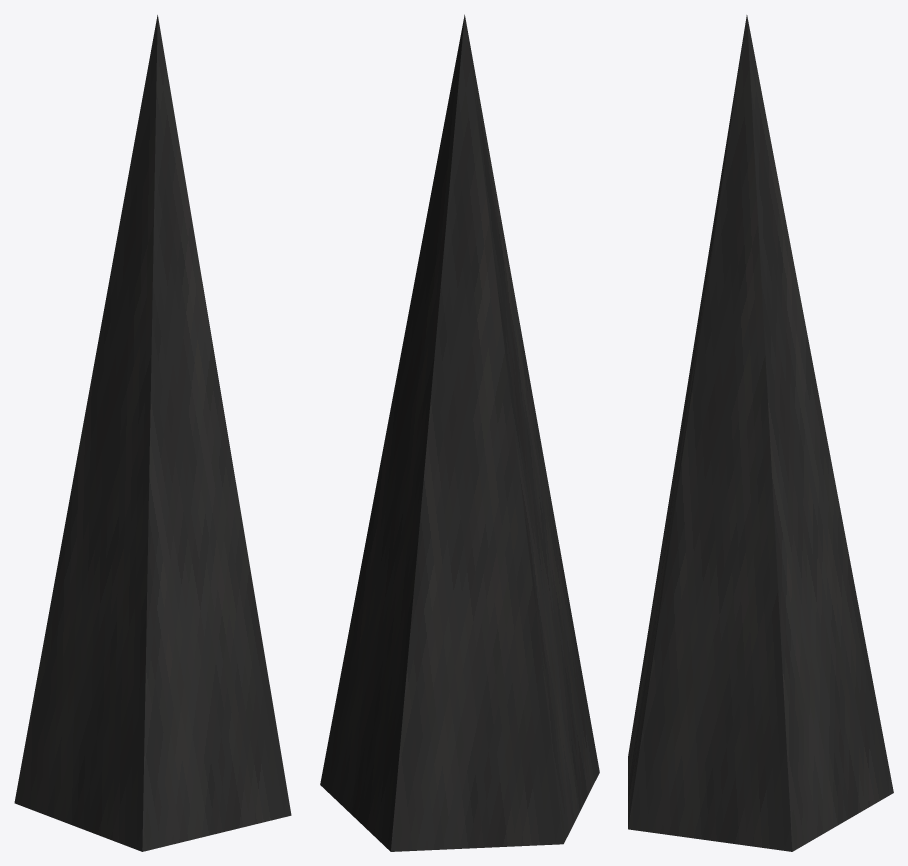
Rendered from stalactite_02.glb.
3 renders of one model, left to right at view 1: azimuth 30°, elevation 25°; view 2: azimuth 150°, elevation 25°; view 3: azimuth 270°, elevation 25°, orthographic.
Parts seen in each view (by area): view 1: thinStalac; view 2: thinStalac; view 3: thinStalac.
Boxes of the visible parts, <box> form: thinStalac: <box>14,15,291,851</box>; thinStalac: <box>320,14,599,851</box>; thinStalac: <box>628,15,893,851</box>.
Bounding box in the file's own units: 0.9801 × 3.01 × 0.9321.
Materials: 1 (1 with a texture image).
